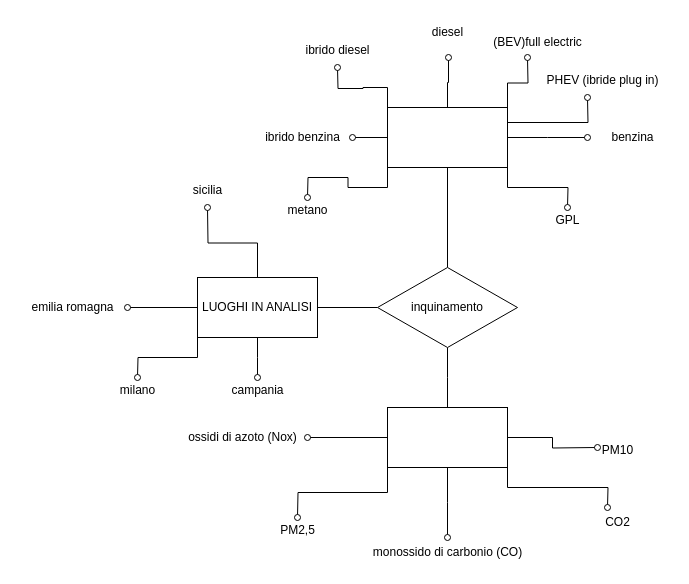
Some shapes in this 689 by 584 pixel diagram are drawn without their labels. Here are the shapes that lost their labels. From the top down, the centre of each, then its label:
point (447, 137): ALIMENTAZIONE
point (447, 437): EMISSIONI
